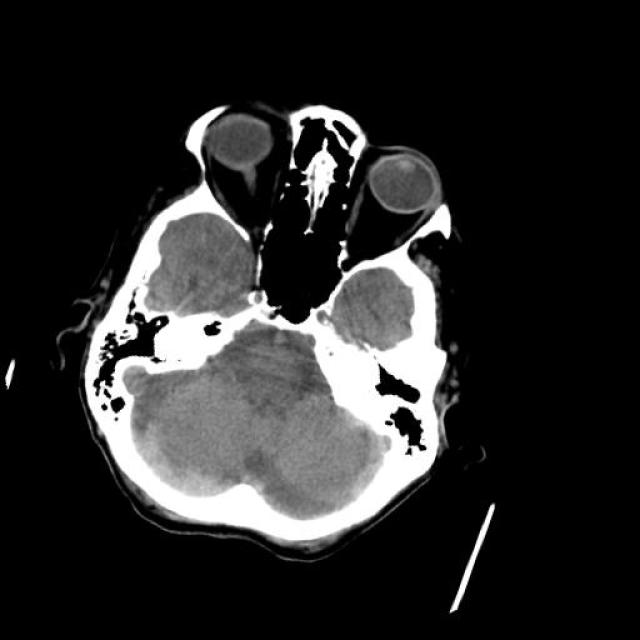Subdural: (308, 397, 434, 531)
